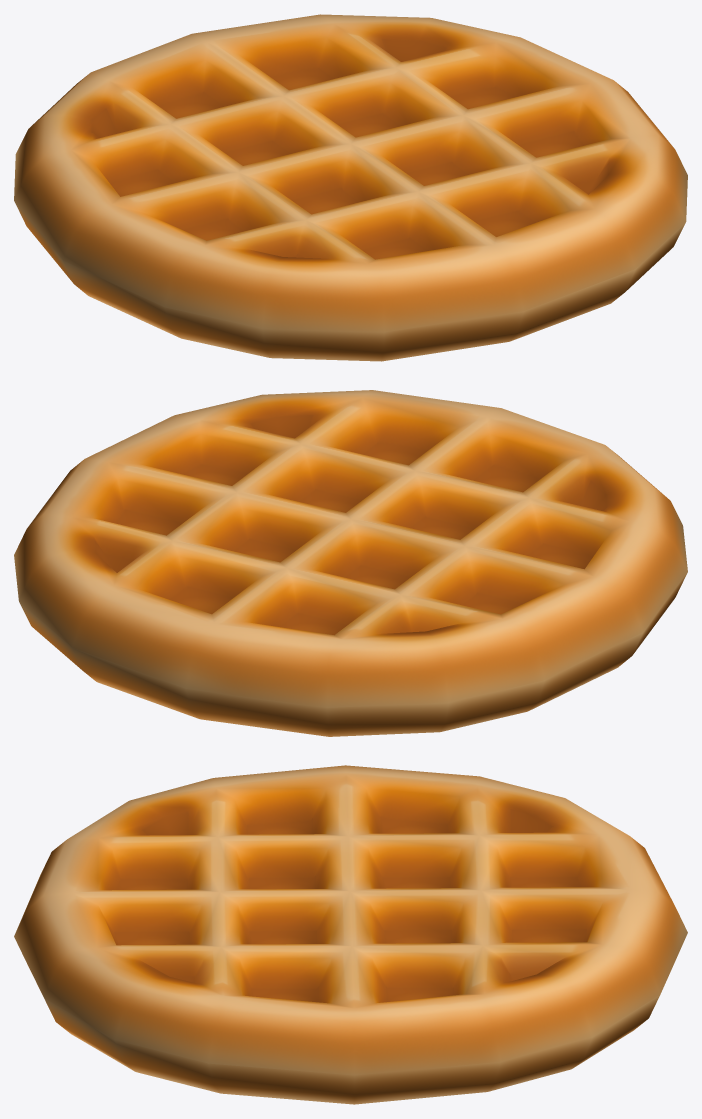
File: Waffle_Plain.fbx
3 views of the same model, one above another, from view 1: azimuth 30°, elevation 25°; view 2: azimuth 150°, elevation 25°; view 3: azimuth 270°, elevation 25° (orthographic).
Visible parts, largest first — view 1: Waffle_Plain; view 2: Waffle_Plain; view 3: Waffle_Plain.
Part boxes in pixels (left/top/right/bottom): Waffle_Plain: left=14, top=14, right=687, bottom=361; Waffle_Plain: left=14, top=390, right=687, bottom=736; Waffle_Plain: left=14, top=765, right=687, bottom=1104.
Bounding box in the file's own units: 57.27 × 8.31 × 58.06.
